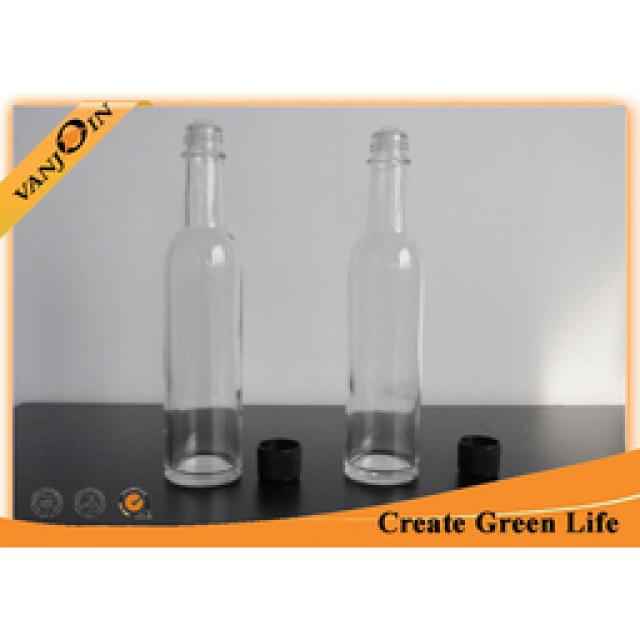glass_beverage_bottles: (166, 120, 242, 485), (348, 130, 420, 488)
